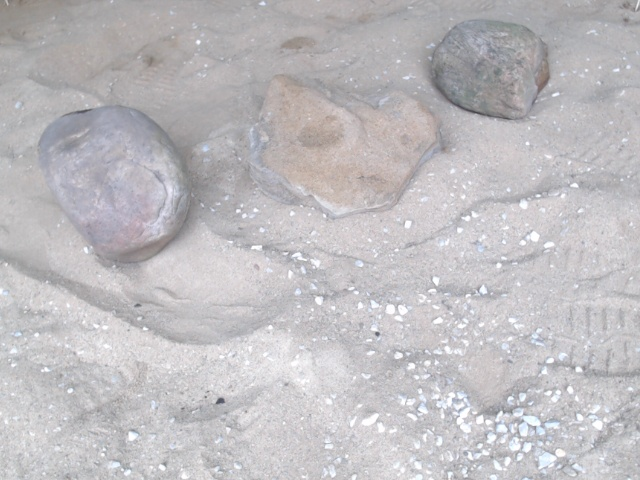rock: (245, 74, 445, 218), (38, 105, 192, 265), (432, 18, 551, 121)
